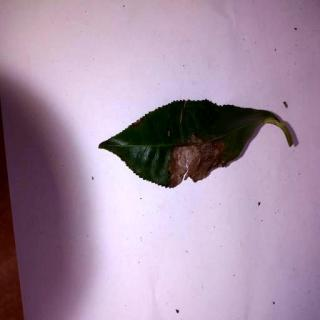Anthracnose: (101, 102, 296, 189)
